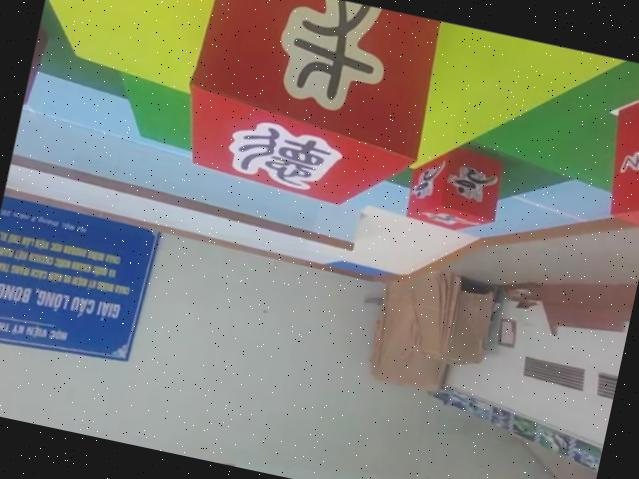R1: (399, 131, 509, 243), (591, 60, 639, 236)
R2 Fake: (168, 0, 448, 223)
R2 Real: (21, 0, 57, 110)
